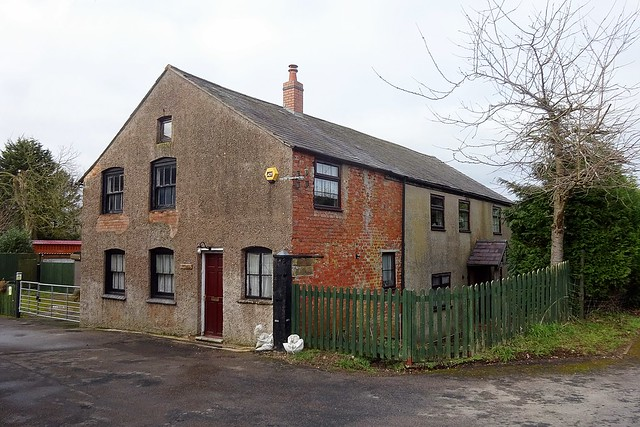medium: (74, 66, 529, 364)
